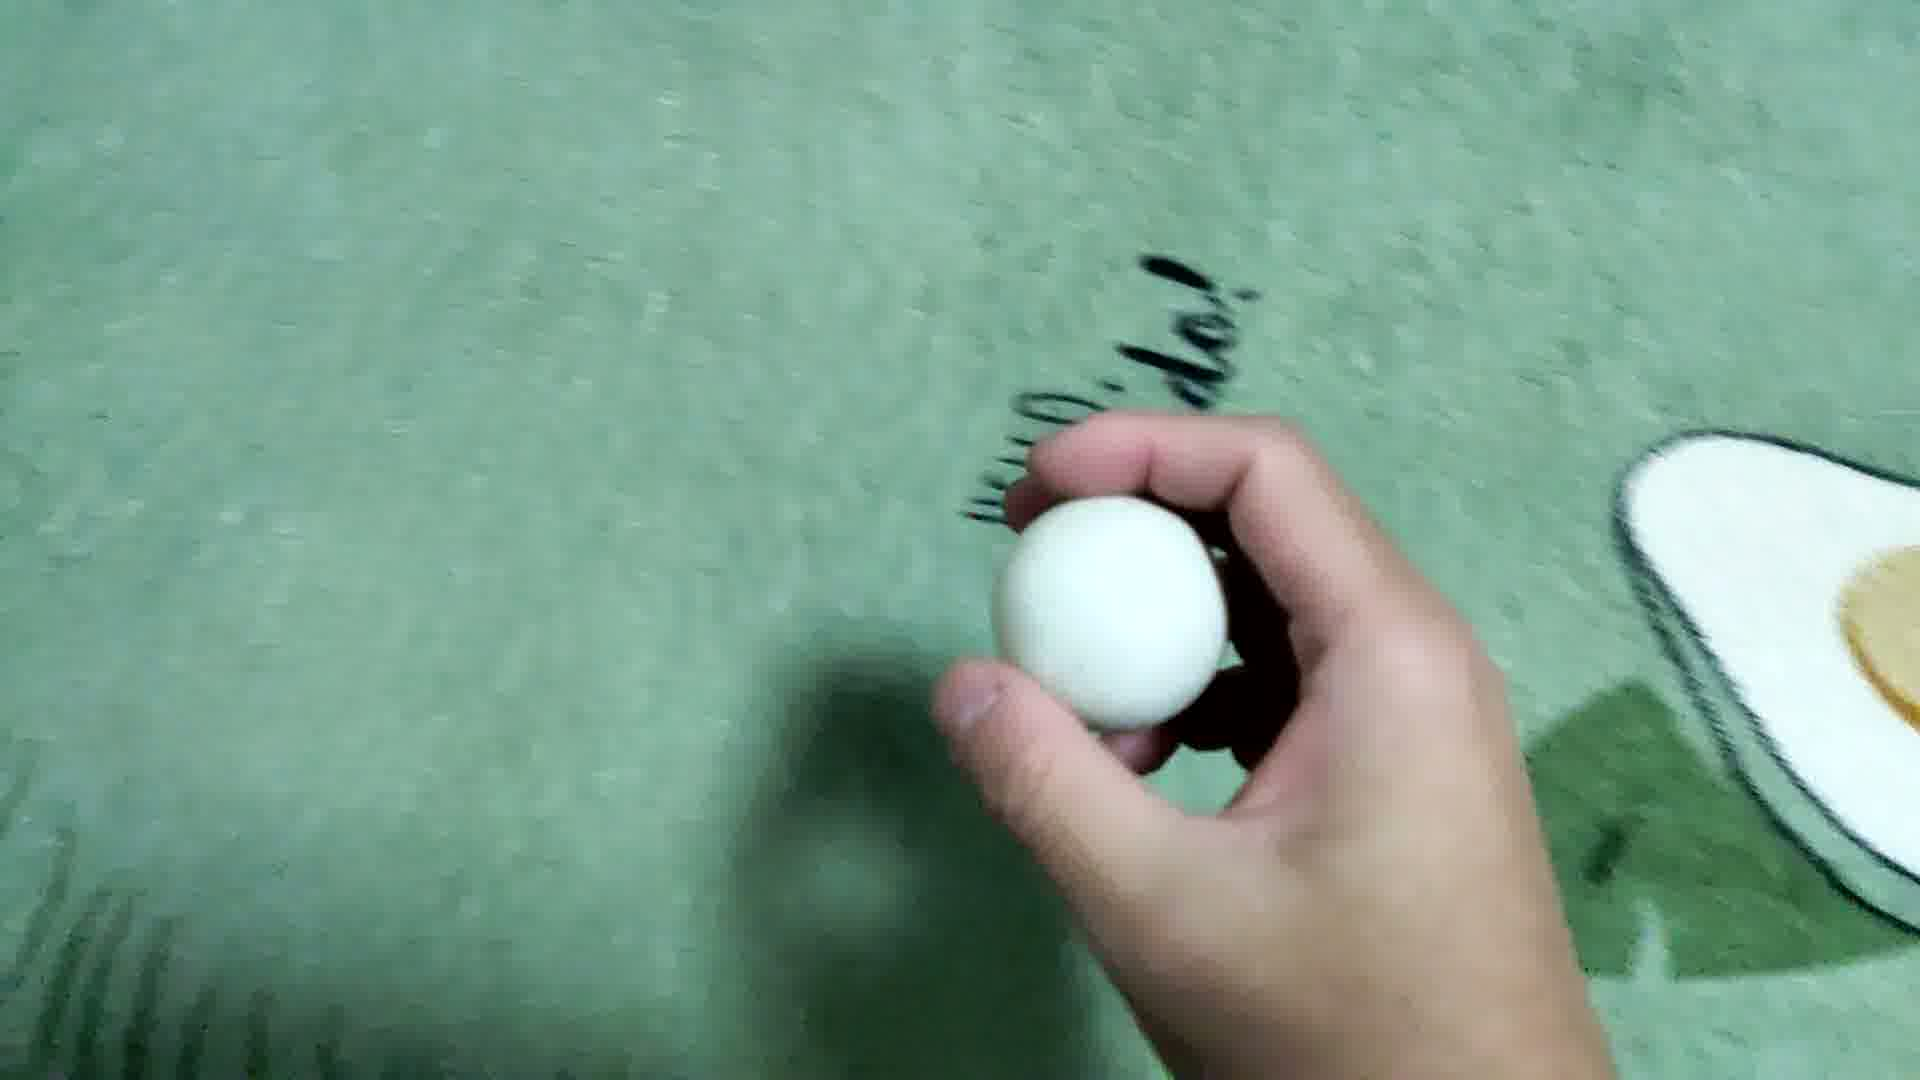Ball: (992, 495, 1233, 724)
